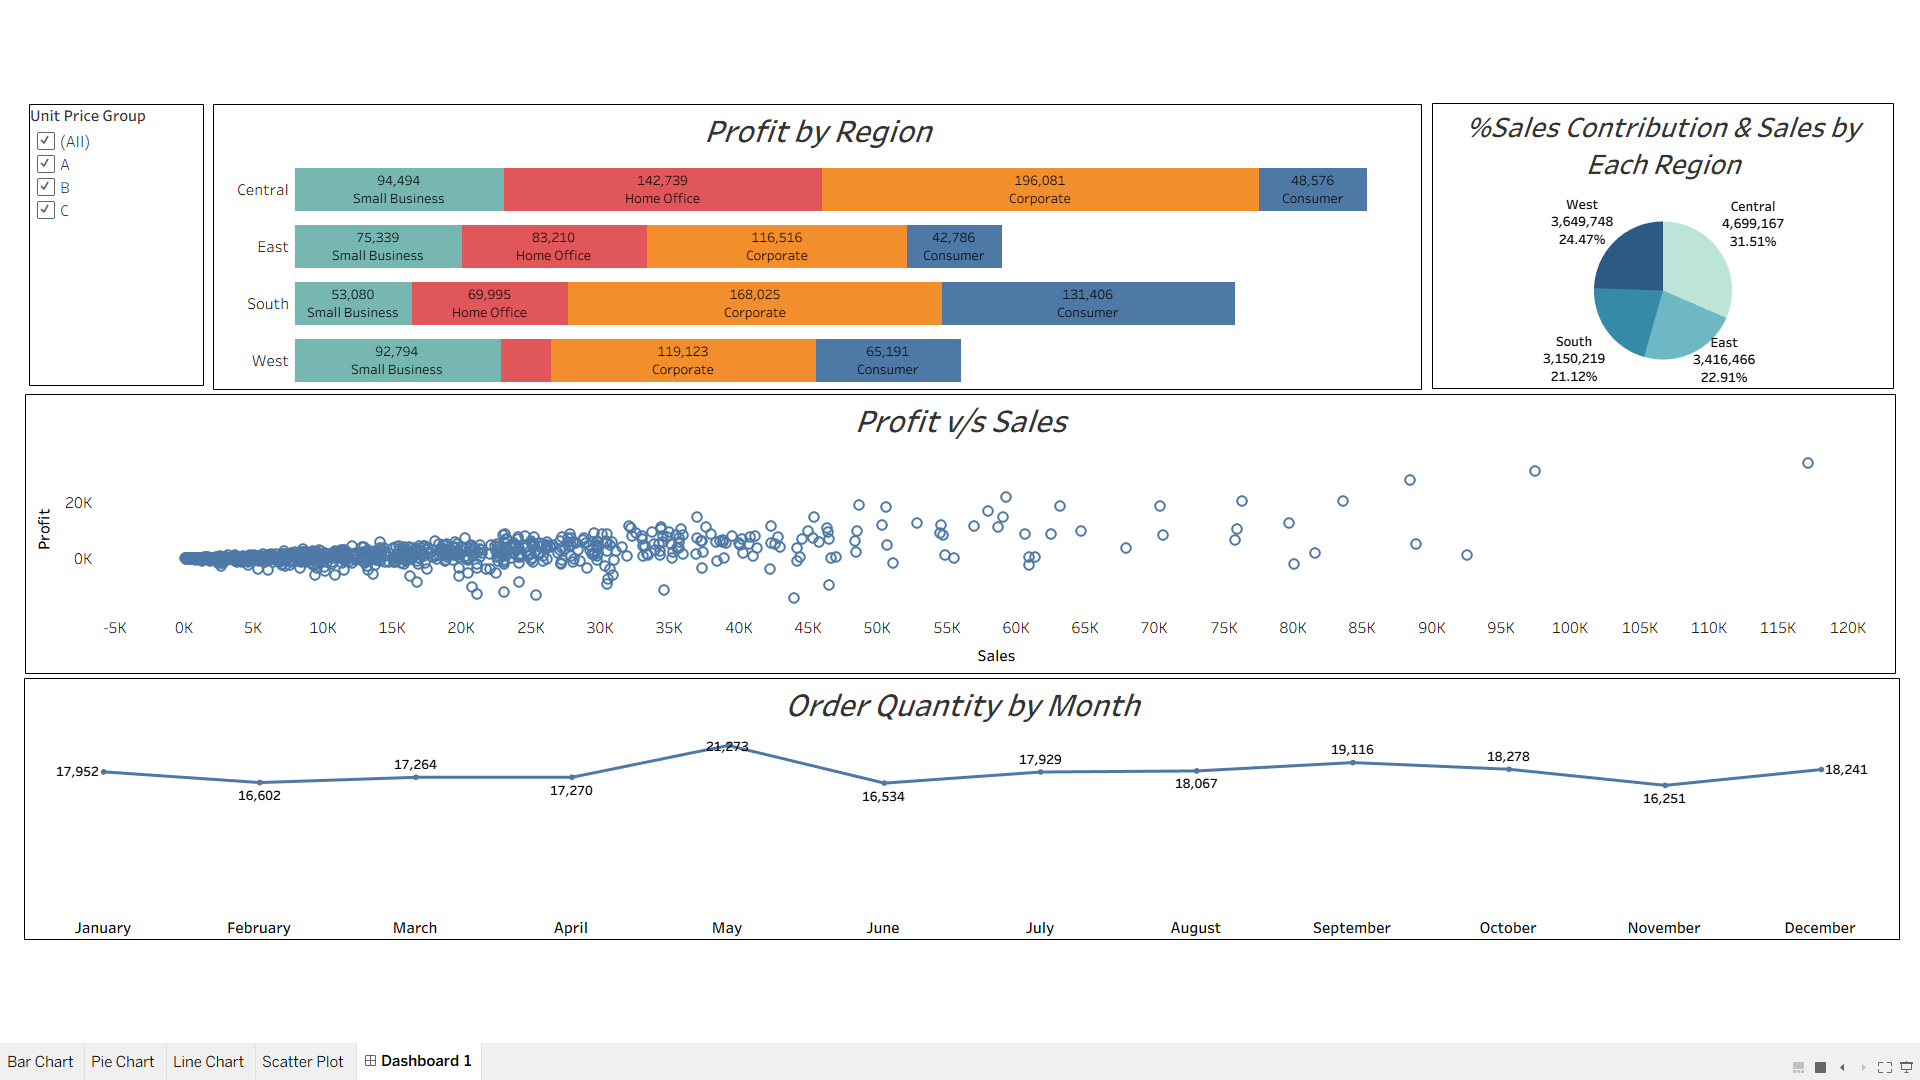

This screenshot's page, from the dashboard's own definition file:
{"tool":"tableau","page":{"name":"Dashboard 1","canvas":[1000,1000],"units":"permille","ordinal":0},"visuals":[{"type":"worksheet","title":"Pie Chart","mark":"Pie","box":[745.9,14.1,240.8,332.6]},{"type":"filter","title":"Line Chart","param":"[federated.1duzwv00iy0hpr16vqfa21rmehwv].[none:Calculation_0161925501177856:nk]","box":[15.1,15.3,91.1,327.9]},{"type":"worksheet","title":"Bar Chart","mark":"Automatic","rows":["Region"],"cols":["Profit"],"box":[111,15.3,629.5,332.6]},{"type":"worksheet","title":"Scatter Plot","mark":"Automatic","rows":["Profit"],"cols":["Sales"],"box":[13.3,352.5,974.6,325.5]},{"type":"worksheet","title":"Line Chart","mark":"Automatic","rows":["Order Quantity"],"cols":["Order Date"],"box":[12.7,682.7,977.1,304.4]}]}

Visuals, with their boxes on the dashboard's canvas, which has no fixed pixel size, in thousandths of its width and height (x1, y1, x2, y2). These are canvas units, not pixel positions in the 1920x1080 screenshot, which may show the page scaled, cropped or inside an application window:
"Pie Chart" worksheet (Pie marks): Rect(746, 14, 987, 347)
"Line Chart" filter: Rect(15, 15, 106, 343)
"Bar Chart" worksheet: Rect(111, 15, 740, 348)
"Scatter Plot" worksheet: Rect(13, 352, 988, 678)
"Line Chart" worksheet: Rect(13, 683, 990, 987)
